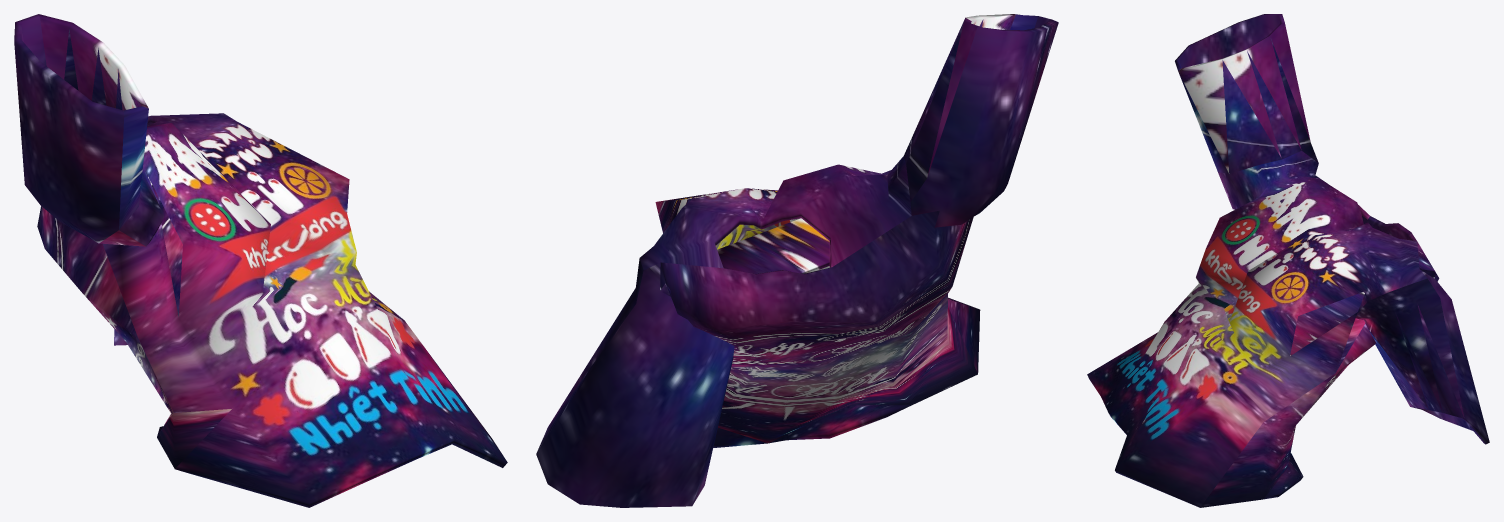
The model's file is Top4.fbx.
The picture shows the model from 3 angles, left to right: view 1: azimuth 30°, elevation 25°; view 2: azimuth 150°, elevation 25°; view 3: azimuth 270°, elevation 25°; orthographic projection. The views are drawn at different scales.
Visible parts, largest first — view 1: F.Top.Shoes.005; view 2: F.Top.Shoes.005; view 3: F.Top.Shoes.005.
Boxes of the visible parts, left/top/right/bottom form: F.Top.Shoes.005: left=14, top=14, right=507, bottom=507; F.Top.Shoes.005: left=536, top=14, right=1058, bottom=507; F.Top.Shoes.005: left=1087, top=14, right=1489, bottom=507.
Size of the model in its own units: 480 by 523 by 535.
